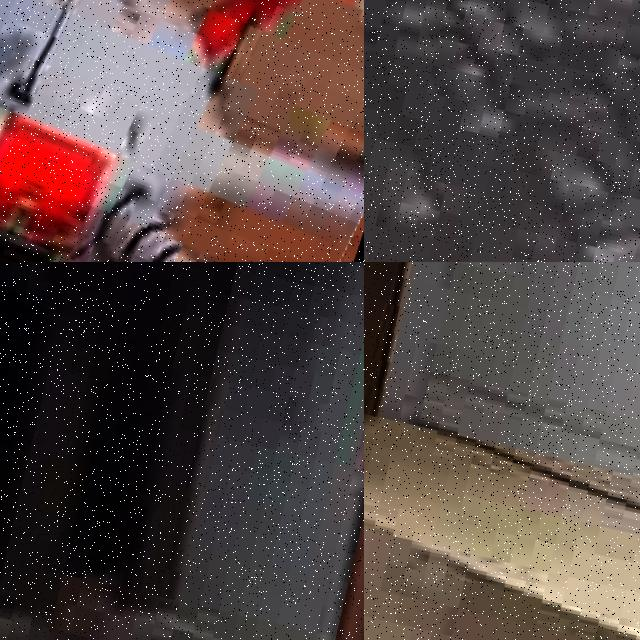drone: (0, 0, 364, 262)
